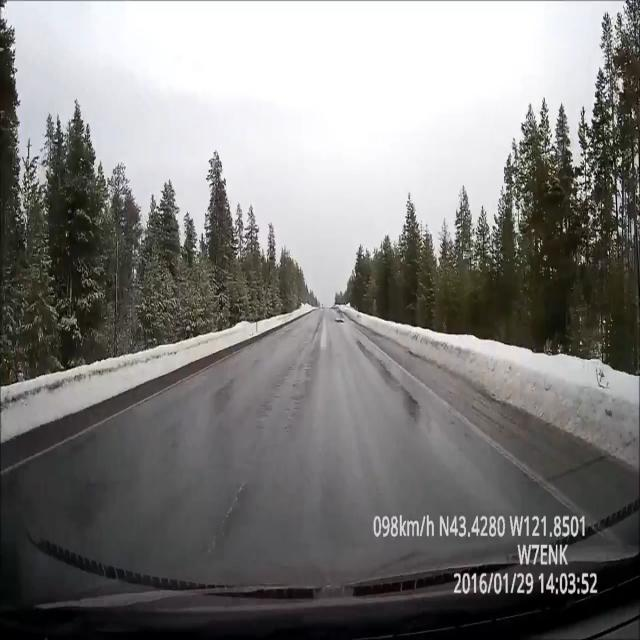Pothole: (333, 308, 348, 326)
